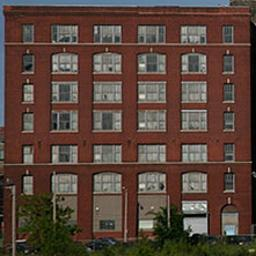building: (4, 0, 251, 244)
